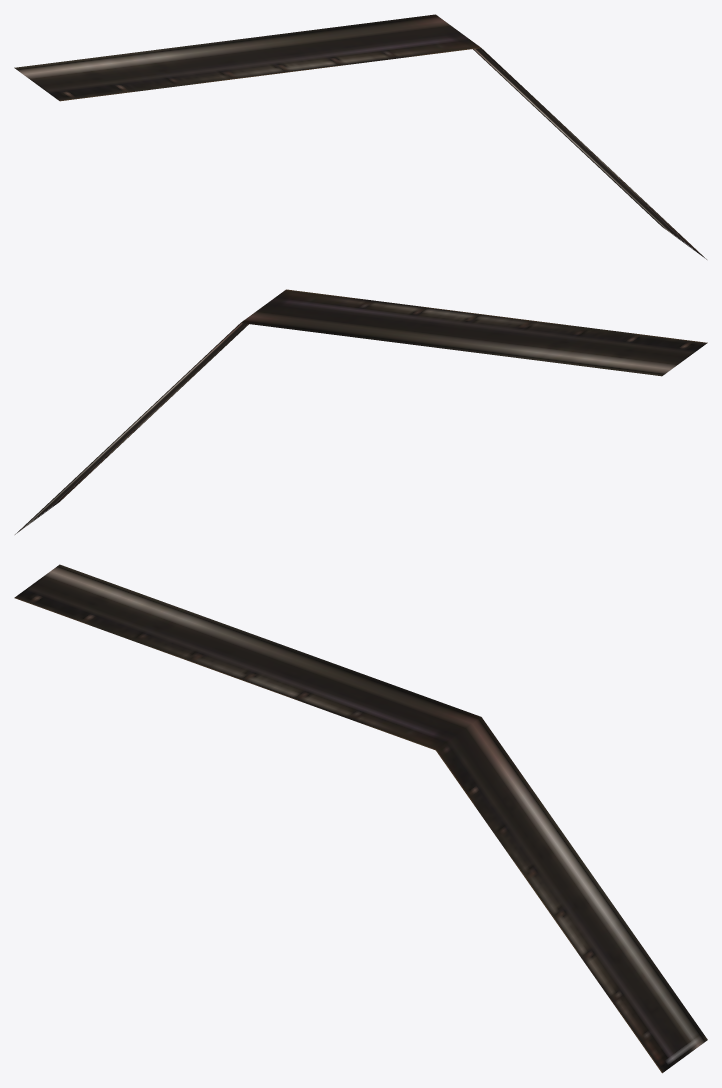
The picture shows the model from 3 angles, top to bottom: view 1: azimuth 30°, elevation 25°; view 2: azimuth 150°, elevation 25°; view 3: azimuth 330°, elevation 25°; orthographic projection.
Parts seen in each view (by area): view 1: Plane02; view 2: Plane02; view 3: Plane02.
Part boxes in pixels (x1,y1,x2,y2): Plane02: (14,14,706,259); Plane02: (15,289,707,534); Plane02: (14,564,707,1073).
Bounding box in the file's own units: 434 × 203 × 53.09.
1 material, 1 textured.
